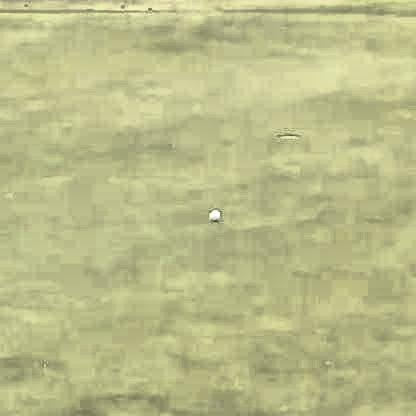golfball: (206, 206, 218, 220)
